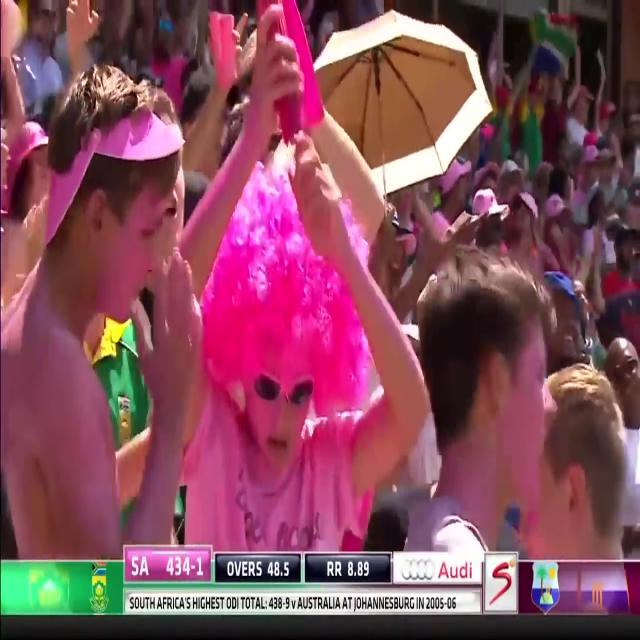Ball: (145, 0, 487, 554)
